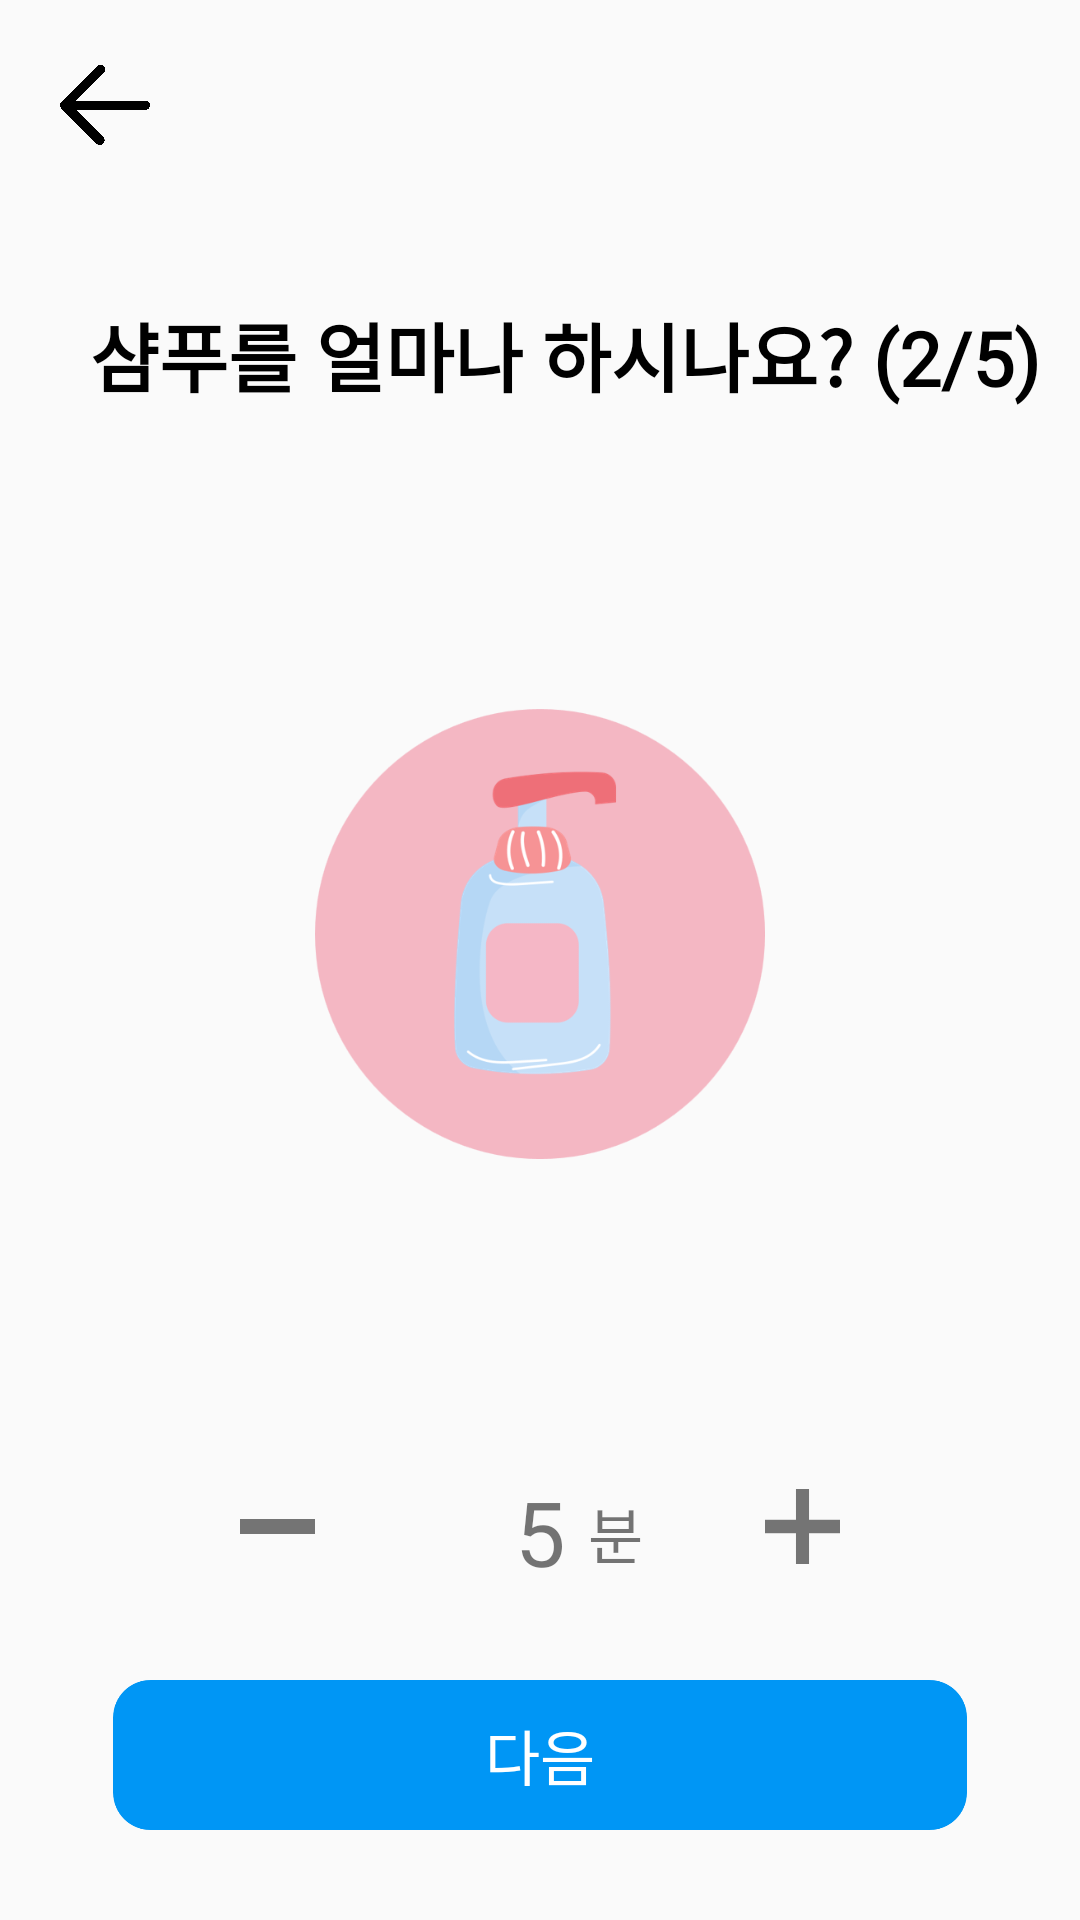

Named icons in this screenshot (1080 × 1920) and their bounding boxes, box(x1, y1, x2, y2):
initial back: box(60, 65, 150, 145)
initial plus: box(765, 1489, 840, 1564)
